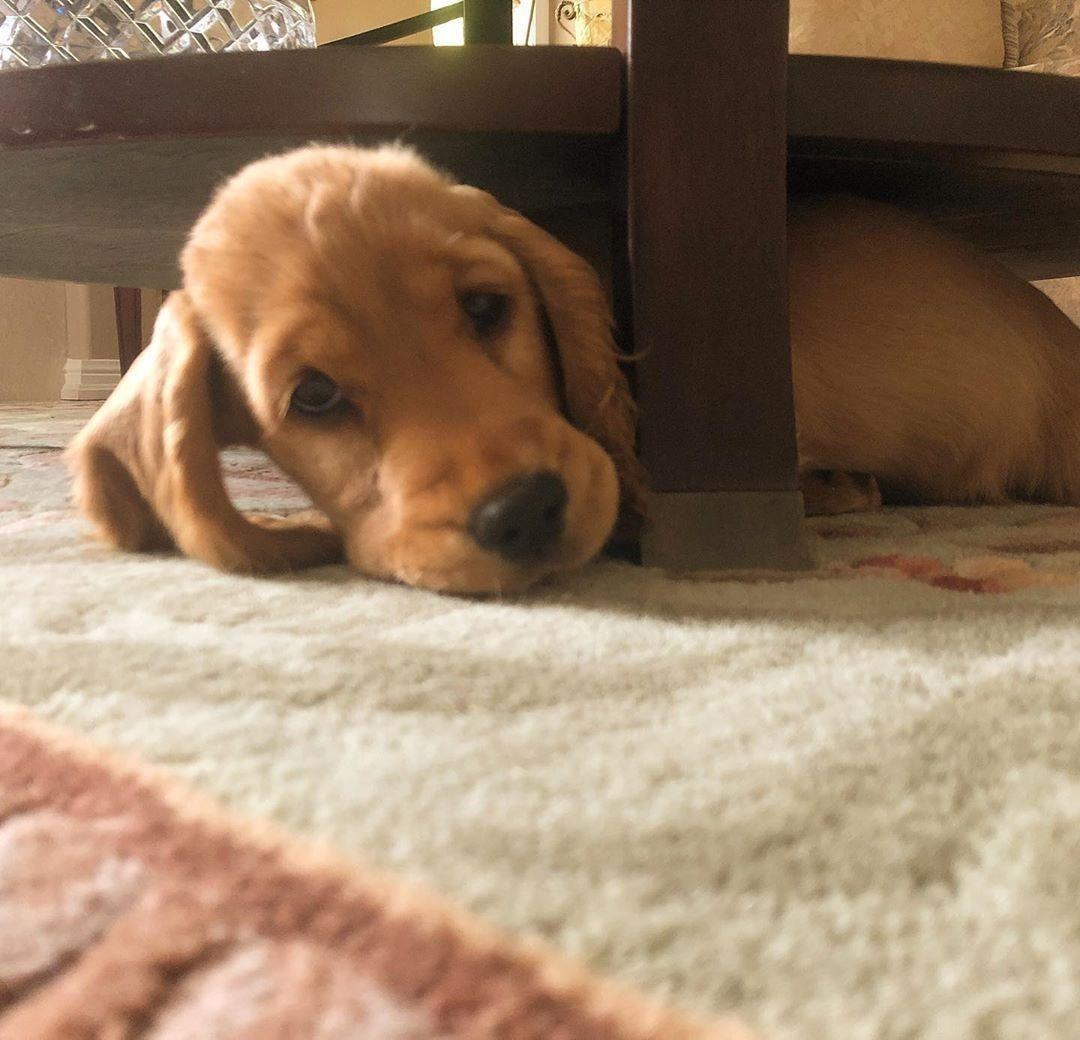puppy-dog: (58, 147, 1080, 597)
